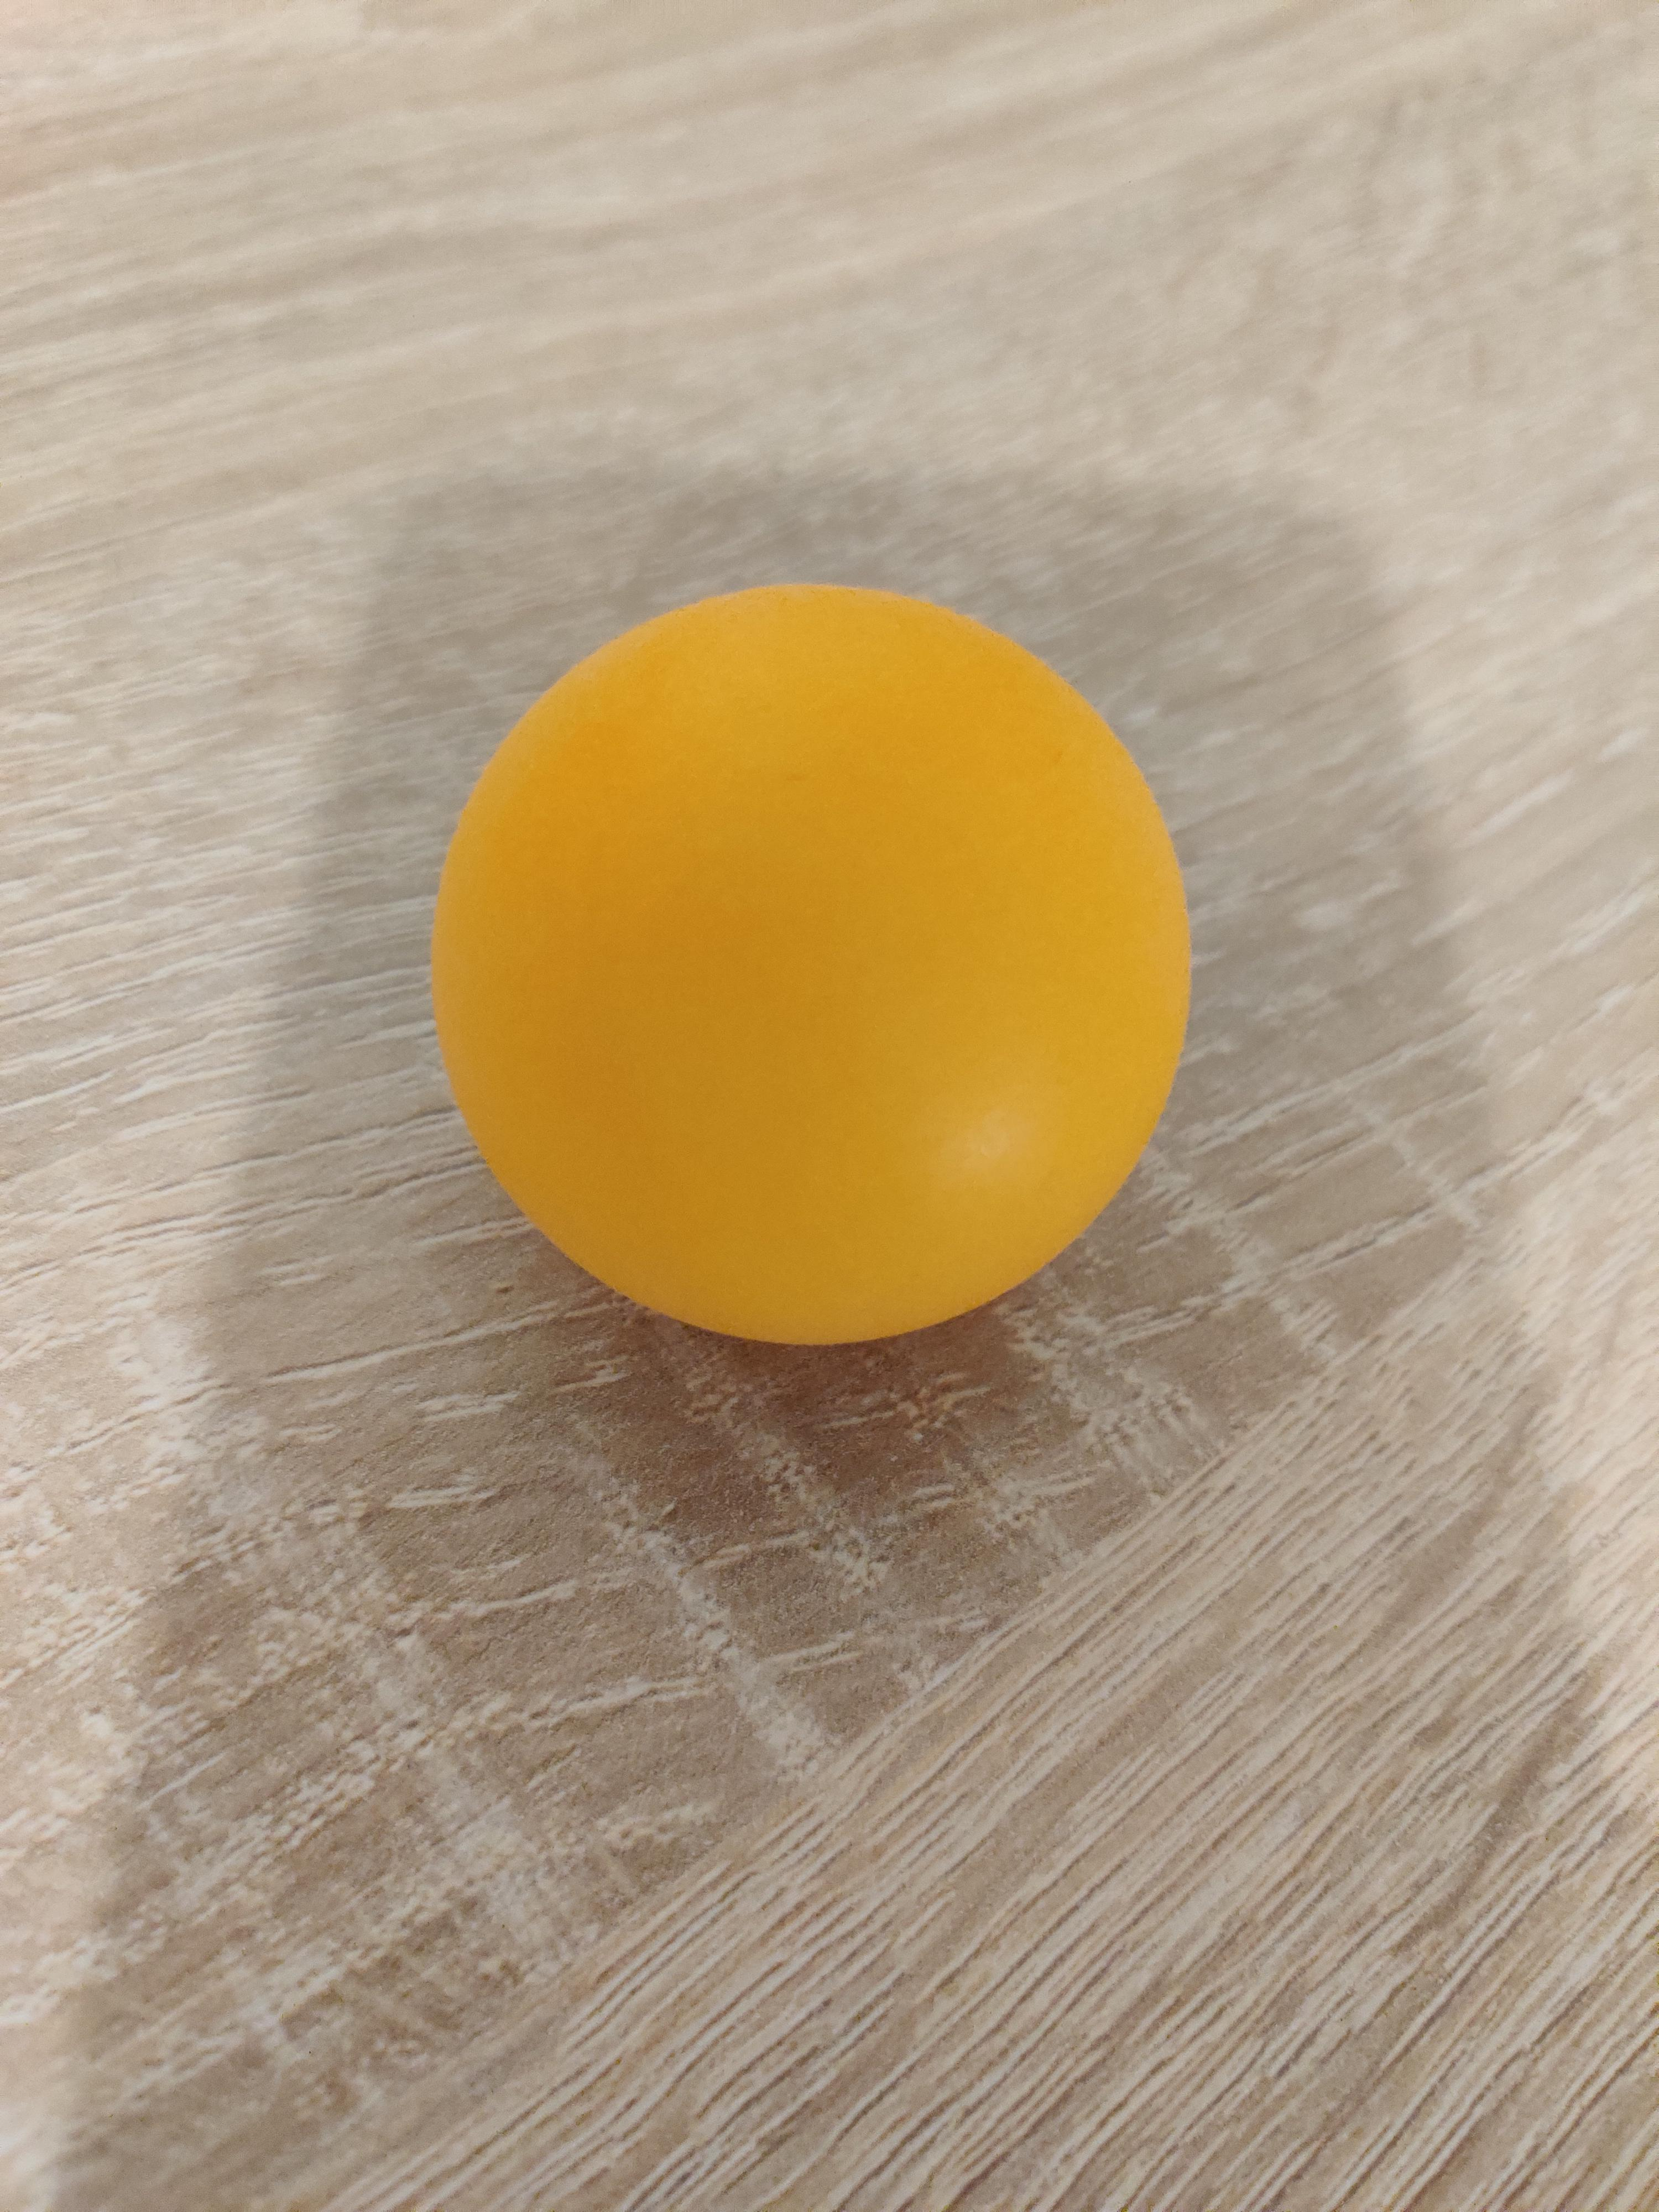orange: (427, 577, 1201, 1357)
